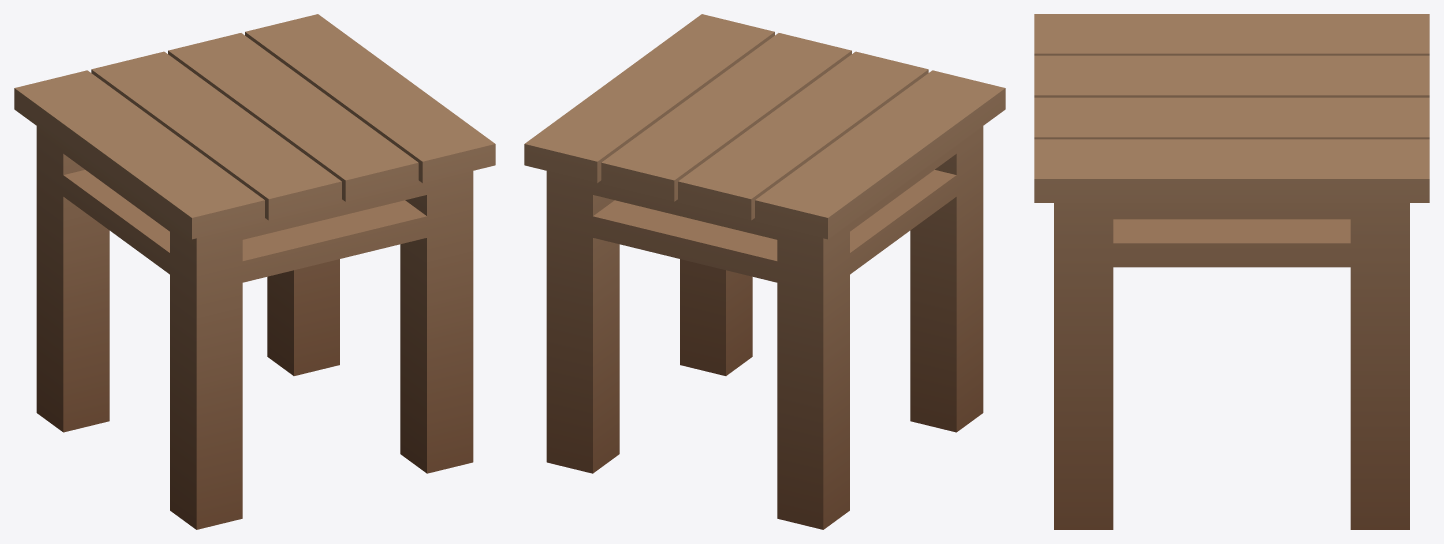
File: pierPlatform.fbx
3 views of the same model, side by side, from view 1: azimuth 30°, elevation 25°; view 2: azimuth 150°, elevation 25°; view 3: azimuth 270°, elevation 25° (orthographic). The views are drawn at different scales.
Visible parts, largest first — view 1: pierPlatform; view 2: pierPlatform; view 3: pierPlatform.
Boxes of the visible parts, <box> form: pierPlatform: <box>14,14,495,529</box>; pierPlatform: <box>524,14,1005,529</box>; pierPlatform: <box>1034,14,1429,529</box>.
Size of the model in its own units: 296 by 300 by 300.
